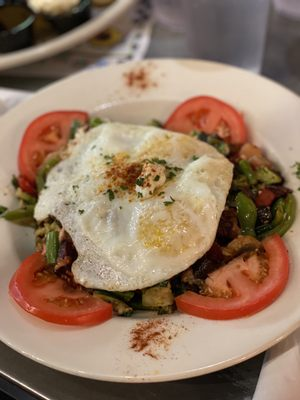soup: (28, 118, 235, 313)
sushi: (1, 0, 155, 78)
